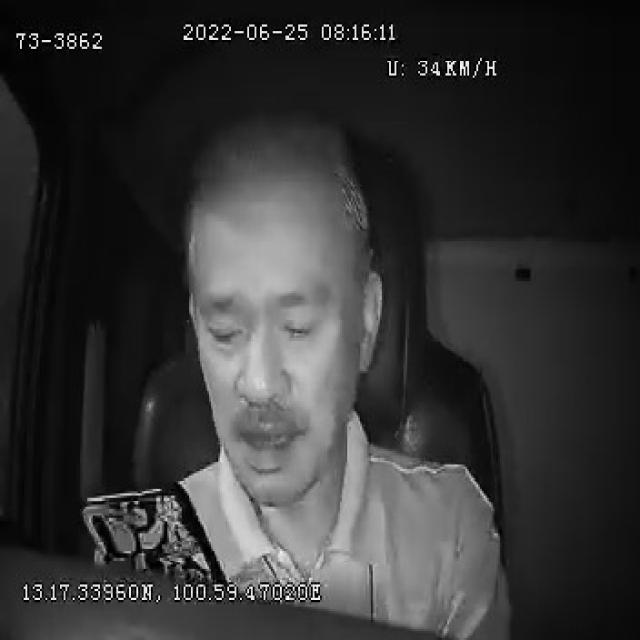phone: (82, 481, 226, 582)
